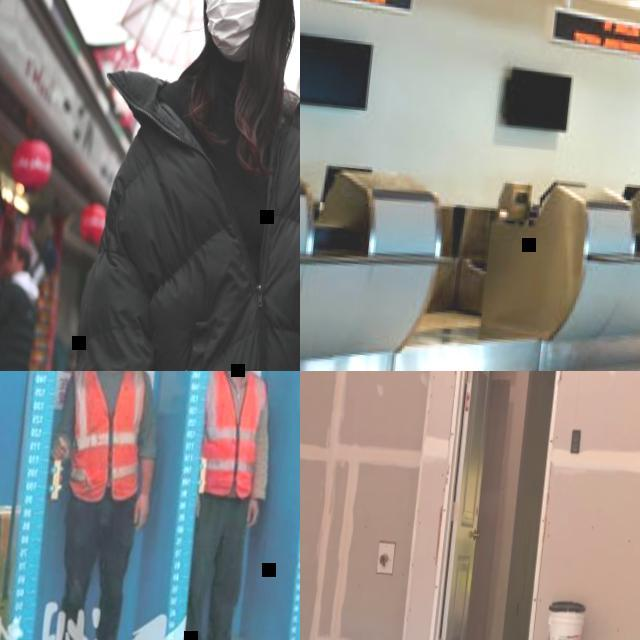vest: (59, 371, 149, 507), (194, 371, 268, 498)
